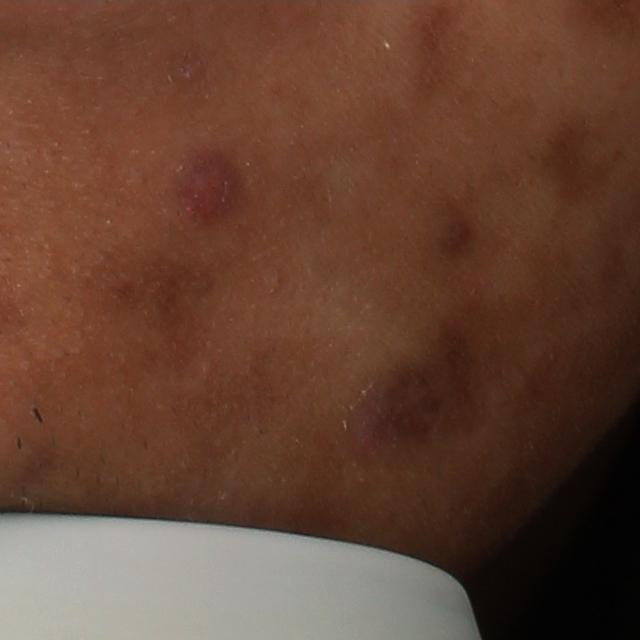papule: (170, 152, 246, 229)
